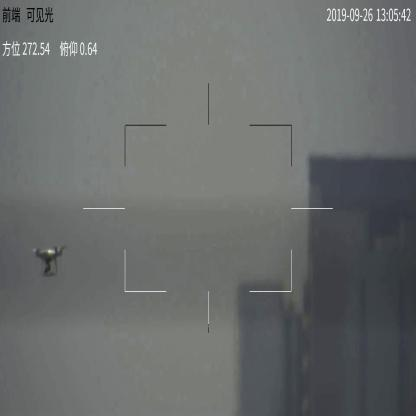uav: (31, 242, 67, 284)
